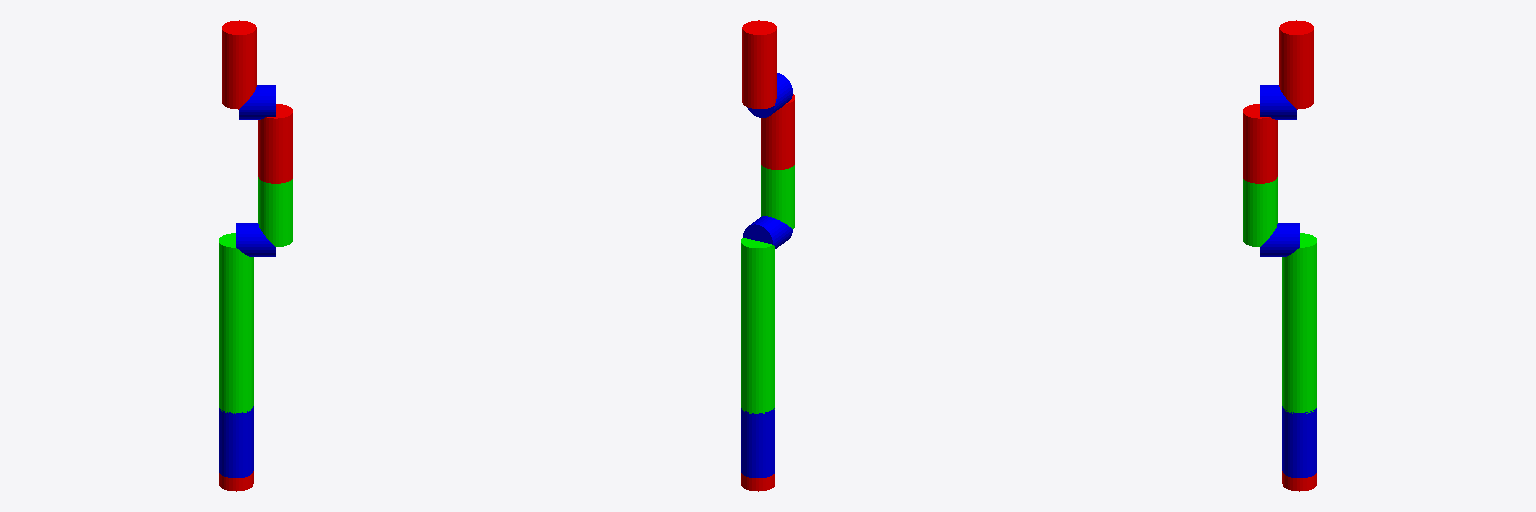
robot.urdf — robot_arm:
<robot name="robot_arm">

    <link name="base_link">
    <visual>
        <origin xyz="0.0 0.0 0.021" rpy="0.0 0.0 0.0"/>
      <geometry>
        <cylinder length="0.042" radius="0.05080"/>
      </geometry>
       <material name="red">
            <color rgba="1.0 0.0 0.0 1.0"/>
        </material>
    </visual> 
  </link>  

   <link name="base_rot">
    <visual>
      <geometry>
        <cylinder length="0.2107" radius="0.05080"/>
      </geometry>
      <material name="blue">
            <color rgba="0.0 0.0 1.0 1.0"/>
      </material>
    </visual> 
  </link>

  <joint name="base_joint" type="revolute">
      <parent link="base_link"/>
      <child link="base_rot"/>
      <origin xyz="0 0 0.14735" rpy="0 0 0" />
      <axis xyz="0 0 -1"/>
    </joint>

    <!-- Define the "sholder_link" -->
    <link name="sholder_link">
        <visual>
            <origin xyz="0.0 0.0 0.2947" rpy="0.0 0.0 0.0"/>
            <geometry>
                <cylinder length="0.535" radius="0.05080"/>
            </geometry>
            <material name="green">
                <color rgba="0.0 1.0 0.0 1.0"/>
            </material>
        </visual>
    </link>

    <joint name="shoulder_joint" type="revolute">
      <parent link="base_rot"/>
      <child link="sholder_link"/>
      <origin xyz="0 0 0.073675" rpy="0 0 0" />
      <axis xyz="0 1 0"/>
      <limit lower="-2.09439510" upper="2.094395102" />
    </joint>

    <joint name="sholder_to_elbow_joint" type="fixed">
        <origin xyz="0.0 0.0 0.564" rpy="-1.570796 0.0 0.0"/>
        <parent link="sholder_link"/>
        <child link="sholder_to_elbow_link"/>
    </joint>

    <link name="sholder_to_elbow_link">
        <visual>
            <origin xyz="0.0 0.0 -0.058" rpy="0.0 0.0 0.0"/>
            <geometry>
                <cylinder length="0.116" radius="0.05080"/>
            </geometry>
            <material name="blue">
                <color rgba="0.0 0.0 1.0 1.0"/>
            </material>
        </visual>
    </link> 

<!-- Define the joint connecting the "sholder_link" to the "elbow_link" -->
    <joint name="elbow_joint" type="revolute">
        <origin xyz="0.0 0.0 -0.116" rpy="1.570796 0.0 0.0"/>
        <parent link="sholder_to_elbow_link"/>
        <child link="elbow_link"/>
        <axis xyz="0 1 0"/>
        <limit lower="-2.487094189" upper="2.487094189" effort="60.0" velocity="100.0"/>
    </joint>

    <!-- Define the "elbow_link" -->
    <link name="elbow_link">
        <visual>
            <origin xyz="0.0 0.0 0.102" rpy="0.0 0.0 0.0"/>
            <geometry>
                <cylinder length="0.204" radius="0.05080"/>
            </geometry>
            <material name="green">
                <color rgba="0.0 1.0 0.0 1.0"/>
            </material>
        </visual>
    </link>
<!-- Define the joint connecting the "elbow_link" to the "elbow_revolute_link" -->
    <joint name="elbow_revolute_joint" type="revolute">
        <origin xyz="0.0 0.0 0.204" rpy="0.0 0.0 0.0"/>
        <parent link="elbow_link"/>
        <child link="elbow_revolute_link"/>
        <axis xyz="0 0 -1"/>
        <limit lower="-3.141692" upper="3.141692" effort="60.0" velocity="100.0"/>
    </joint>

    <!-- Define the "elbow_revolute_link" -->
    <link name="elbow_revolute_link">
        <visual>
            <origin xyz="0.0 0.0 0.105" rpy="0.0 0.0 0.0"/>
            <geometry>
                <cylinder length="0.210" radius="0.05080"/>
            </geometry>
            <material name="red">
                <color rgba="1.0 0.0 0.0 1.0"/>
            </material>
        </visual>
    </link>

      <joint name="elbow_revolute_to_wrist_joint" type="fixed">
        <origin xyz="0.0 0.0 0.239" rpy="-1.570796 0.0 0.0"/>
        <parent link="elbow_revolute_link"/>
        <child link="elbow_revolute_to_wrist_link"/>
    </joint>

    <link name="elbow_revolute_to_wrist_link">
        <visual>
            <origin xyz="0.0 0.0 0.0535" rpy="0.0 0.0 0.0"/>
            <geometry>
                <cylinder length="0.107" radius="0.05080"/>
            </geometry>
            <material name="blue">
                <color rgba="0.0 0.0 1.0 1.0"/>
            </material>
        </visual>
     
    </link>
<!-- Define the joint connecting the "elbow_revolute_link" to the "wrist_link" -->
    <joint name="wrist_joint" type="revolute">
        <origin xyz="0.0 0.0 0.107" rpy="1.570796 0.0 0.0"/>
        <parent link="elbow_revolute_to_wrist_link"/>
        <child link="wrist_link"/>
        <axis xyz="0 -1 0"/>
        <limit lower="-3.141692" upper="3.141692" effort="60.0" velocity="100.0"/>
    </joint>

    <!-- Define the "wrist_link" -->
    <link name="wrist_link">
        <visual>
            <origin xyz="0.0 0.0 0.0945" rpy="0.0 0.0 0.0"/>
            <geometry>
                <cylinder length="0.189" radius="0.05080"/>
            </geometry>
            <material name="green">
                <color rgba="1.0 0.0 0.0 1.0"/>
            </material>
        </visual>
       
    </link>
<!-- Define the joint connecting the "wrist_link" to the "wrist_revolute_link" -->
    <joint name="wrist_revolute_link" type="revolute">
        <origin xyz="0.0 0.0 0.189" rpy="0 0.0 0.0"/>
        <parent link="wrist_link"/>
        <child link="wrist_revolute_link"/>
        <axis xyz="0 0 1"/>
        <limit lower="-3.141692" upper="3.141692" effort="60.0" velocity="100.0"/>
    </joint>

    <!-- Define the "wrist_revolute_link" -->
    <link name="wrist_revolute_link">
        <visual>
            <origin xyz="0.0 0.0 0.025" rpy="0.0 0.0 0.0"/>
            <geometry>
                <cylinder length="0.05" radius="0.05080"/>
            </geometry>
            <material name="red">
                <color rgba="1.0 0.0 0.0 1.0"/>
            </material>
        </visual>
    </link>
  
  
</robot>

--- Render facts (derived) ---
Views: 3 orthographic renders of the robot side by side, from view 1: azimuth 90°, elevation 25°; view 2: azimuth 150°, elevation 25°; view 3: azimuth 270°, elevation 25°.
Robot: robot_arm — 9 links, 8 joints (6 revolute, 2 fixed); root link base_link; default pose: every joint at zero.
Visible links, largest first — view 1: sholder_link, elbow_revolute_link, base_rot, elbow_link, wrist_link, sholder_to_elbow_link, elbow_revolute_to_wrist_link, wrist_revolute_link; view 2: sholder_link, base_rot, wrist_link, elbow_revolute_link, elbow_link, sholder_to_elbow_link, wrist_revolute_link, elbow_revolute_to_wrist_link; view 3: sholder_link, elbow_revolute_link, base_rot, elbow_link, wrist_link, sholder_to_elbow_link, elbow_revolute_to_wrist_link, wrist_revolute_link.
Boxes of the visible links, left/top/right/bottom form: sholder_link: left=219, top=233, right=253, bottom=413; elbow_revolute_link: left=258, top=104, right=292, bottom=183; base_rot: left=219, top=406, right=253, bottom=477; elbow_link: left=258, top=177, right=292, bottom=246; wrist_link: left=222, top=44, right=256, bottom=109; sholder_to_elbow_link: left=236, top=223, right=275, bottom=256; elbow_revolute_to_wrist_link: left=239, top=85, right=275, bottom=119; wrist_revolute_link: left=222, top=20, right=256, bottom=50; sholder_link: left=741, top=238, right=774, bottom=413; base_rot: left=741, top=408, right=774, bottom=477; wrist_link: left=742, top=44, right=776, bottom=108; elbow_revolute_link: left=761, top=94, right=794, bottom=169; elbow_link: left=761, top=165, right=794, bottom=228; sholder_to_elbow_link: left=743, top=216, right=792, bottom=248; wrist_revolute_link: left=742, top=20, right=776, bottom=50; elbow_revolute_to_wrist_link: left=747, top=73, right=792, bottom=117; sholder_link: left=1282, top=233, right=1316, bottom=413; elbow_revolute_link: left=1243, top=104, right=1277, bottom=183; base_rot: left=1282, top=406, right=1316, bottom=477; elbow_link: left=1243, top=177, right=1277, bottom=246; wrist_link: left=1279, top=44, right=1313, bottom=109; sholder_to_elbow_link: left=1260, top=223, right=1299, bottom=256; elbow_revolute_to_wrist_link: left=1260, top=85, right=1296, bottom=119; wrist_revolute_link: left=1279, top=20, right=1313, bottom=50.
Bounding box of the posed robot: 0.1016 × 0.2176 × 1.47 m (x, y, z).
Geometry: primitives only (box / cylinder / sphere), no mesh files.